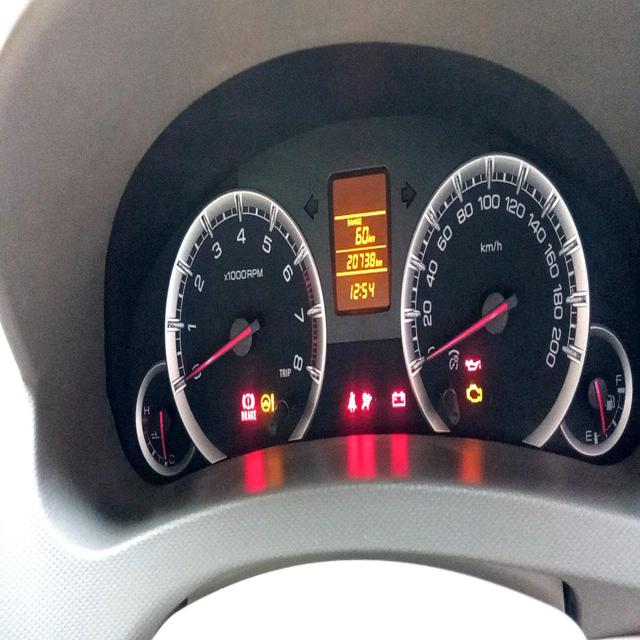odometer: (345, 248, 376, 271)
